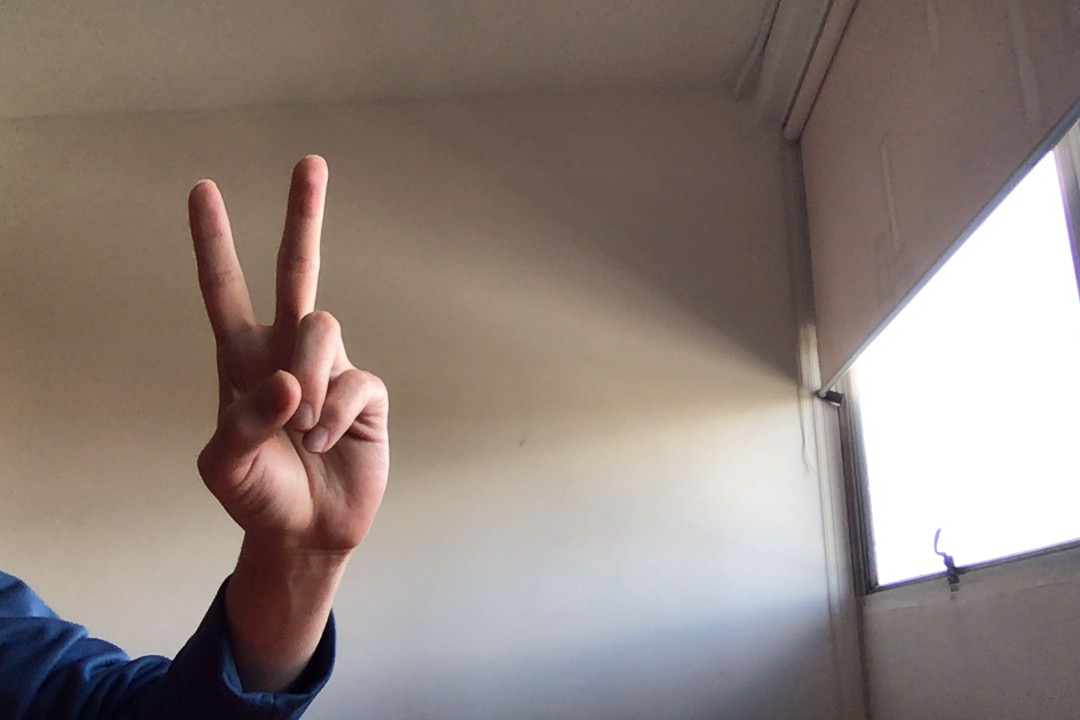peacesign: (173, 143, 398, 560)
